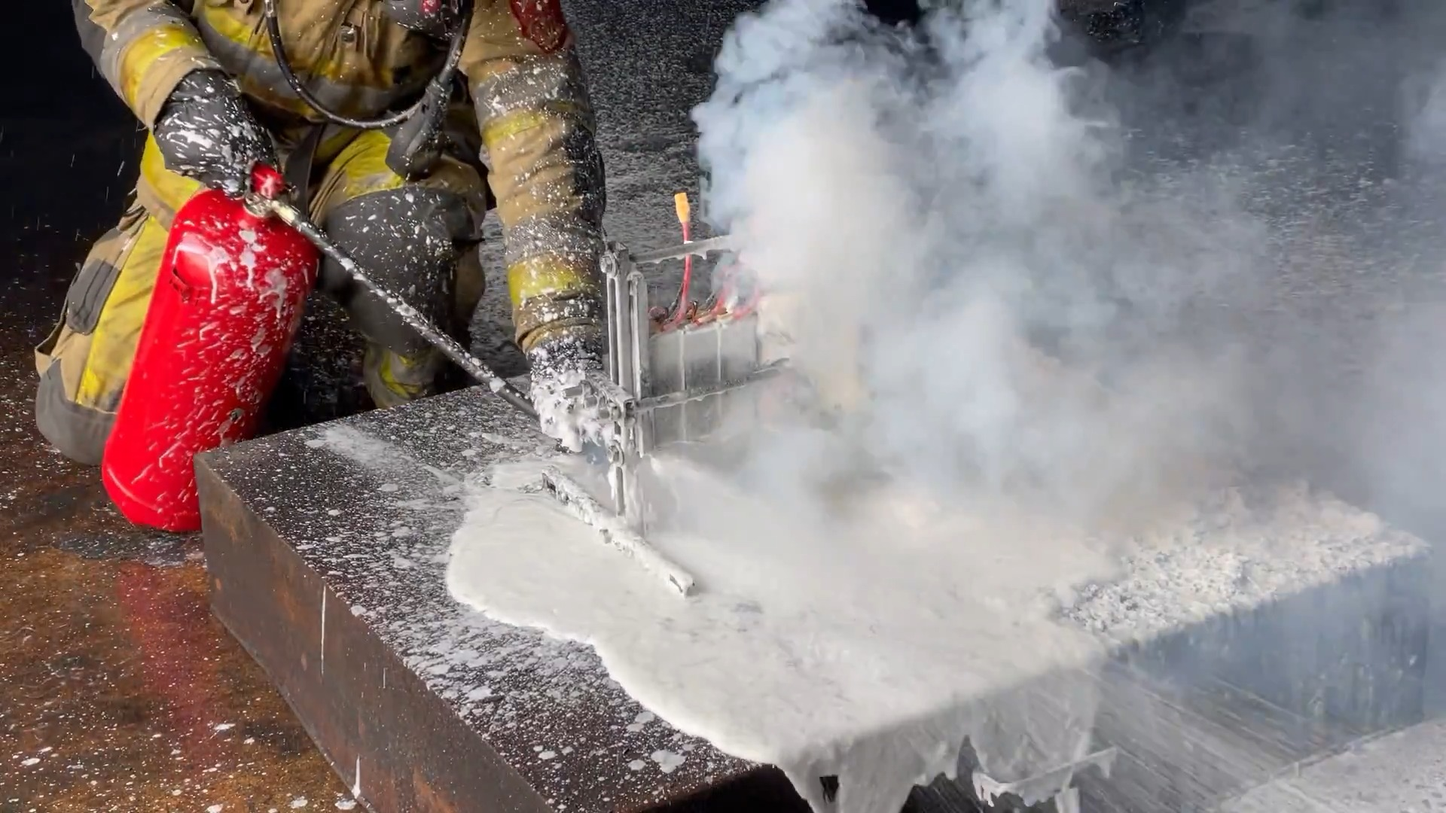smoke: (688, 0, 1189, 534)
